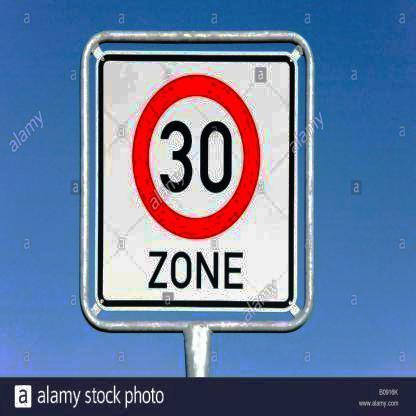Speed Limit -30-: (127, 70, 264, 242)
